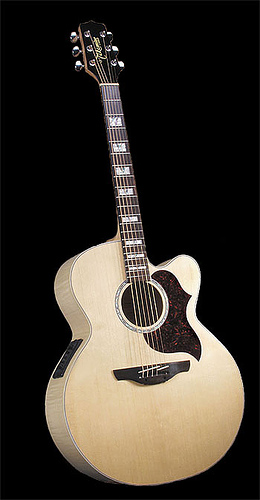guitar: (43, 18, 247, 486)
